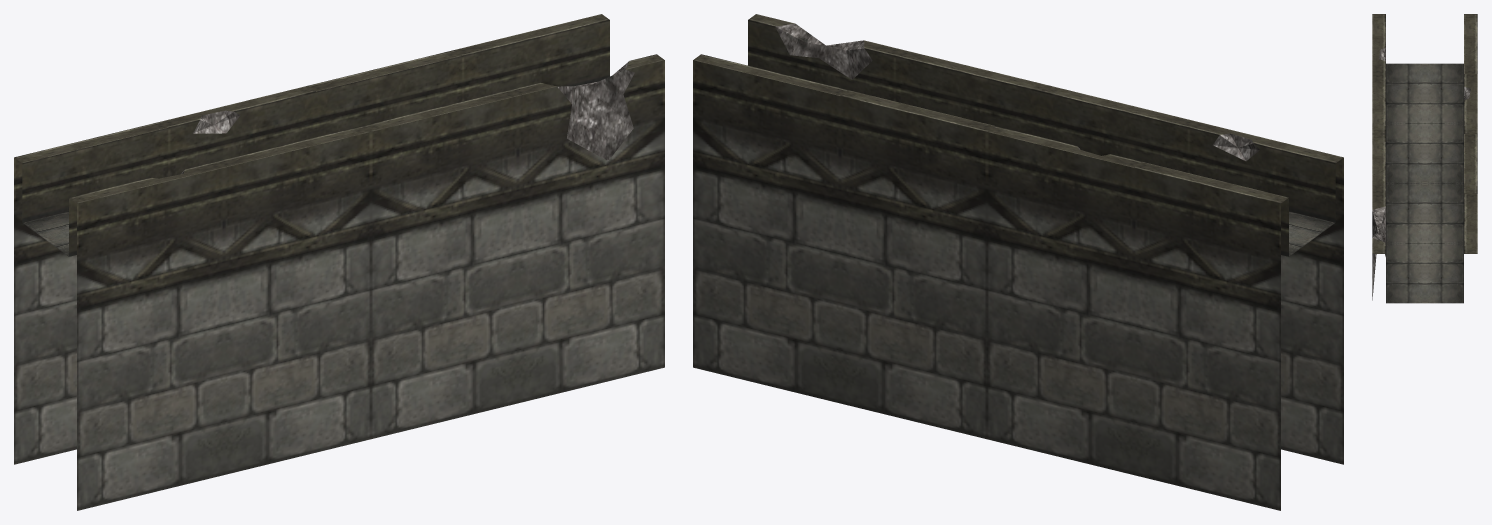
3 renders of one model, left to right at view 1: azimuth 30°, elevation 25°; view 2: azimuth 150°, elevation 25°; view 3: azimuth 270°, elevation 25°, orthographic. The views are drawn at different scales.
Parts seen in each view (by area): view 1: object20; view 2: object20; view 3: object20.
Part boxes in pixels (bbox=[...]): object20: bbox=[14, 14, 664, 510]; object20: bbox=[693, 14, 1343, 510]; object20: bbox=[1372, 14, 1477, 303].
Bounding box in the file's own units: 521 × 260 × 96.82.
3 materials, 3 textured.
